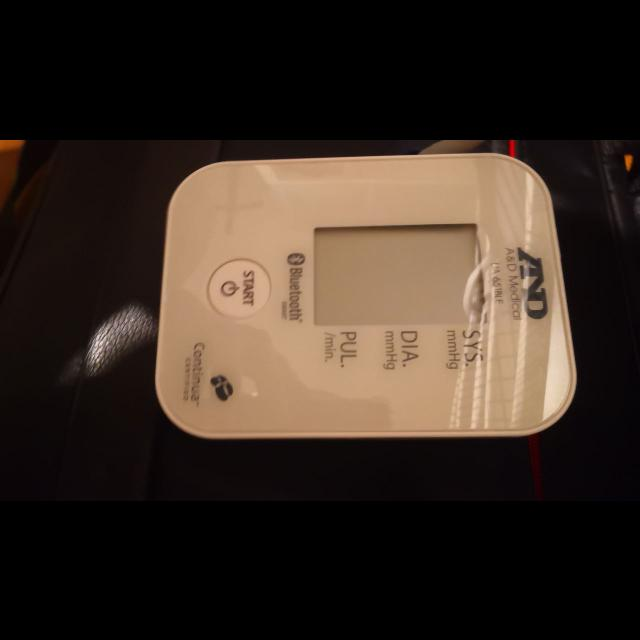Blood-Pressure-Monitor: (156, 153, 574, 437)
